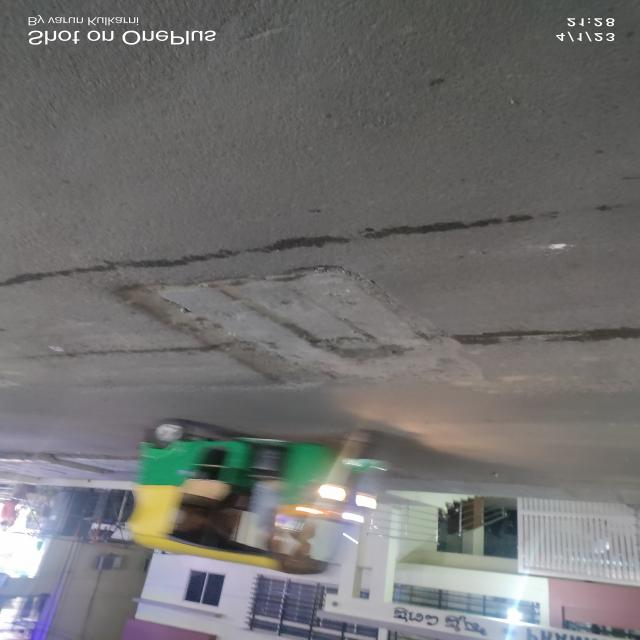potholes: (106, 261, 515, 396)
